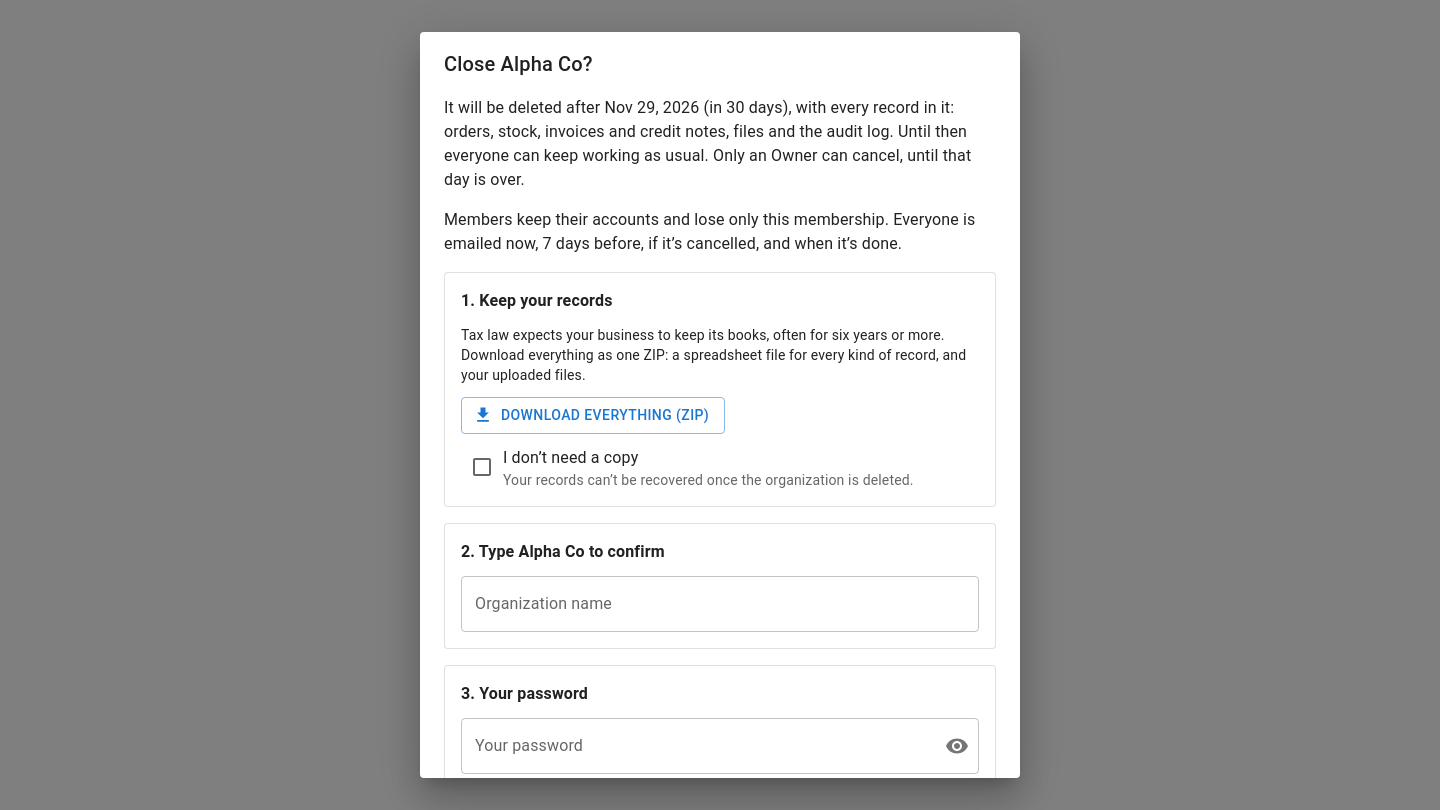
Test: CloseOrganizationDialog › marks a refused password on its field, with the way on (#120)
This screenshot has width=1440, height=810.
Step 1. Click the checkbox labelled "I don’t need a copy" → (571, 457), box [461,446,979,490]
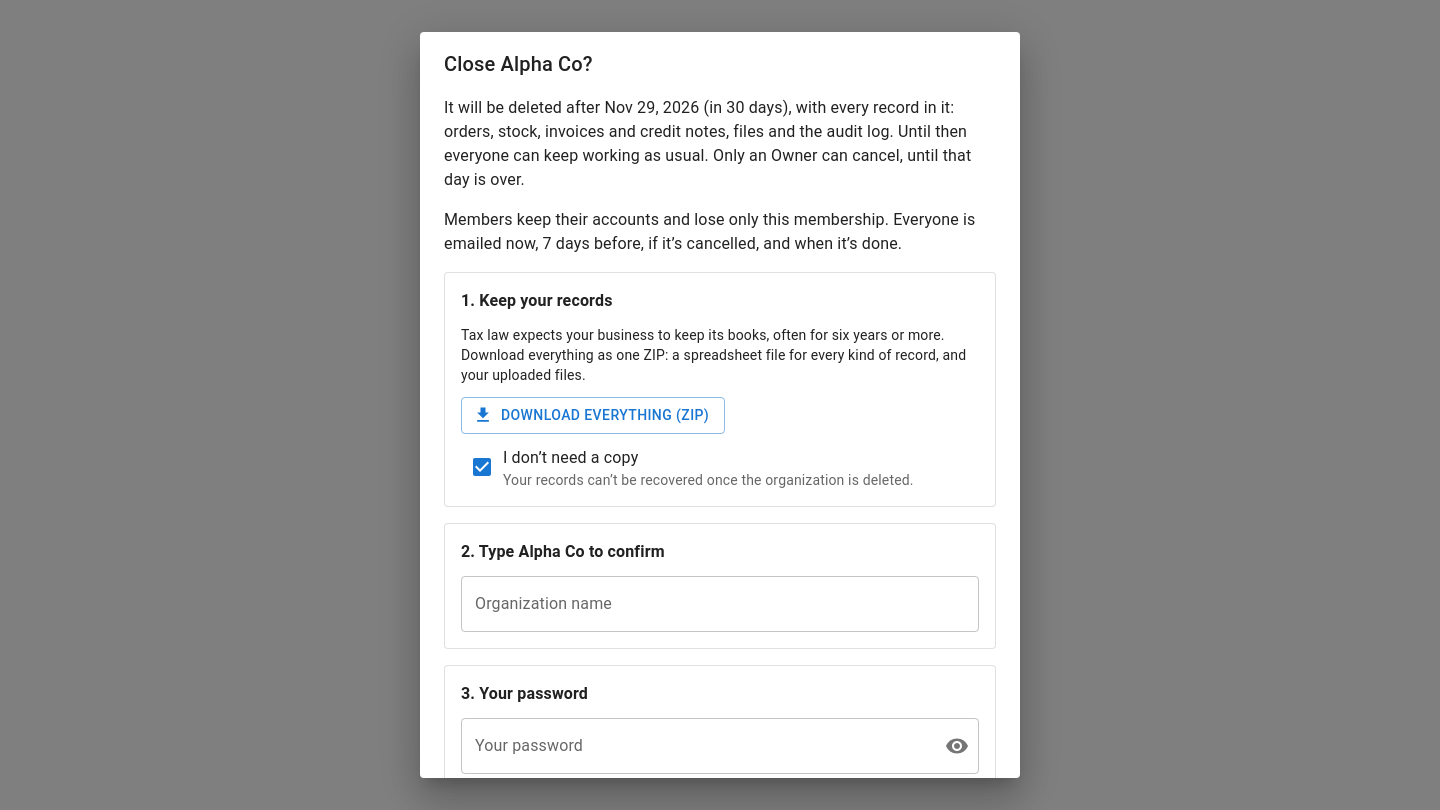
Step 2. Type "Alpha Co" into the field labelled "Organization name" → (720, 604), box [461,576,979,632]
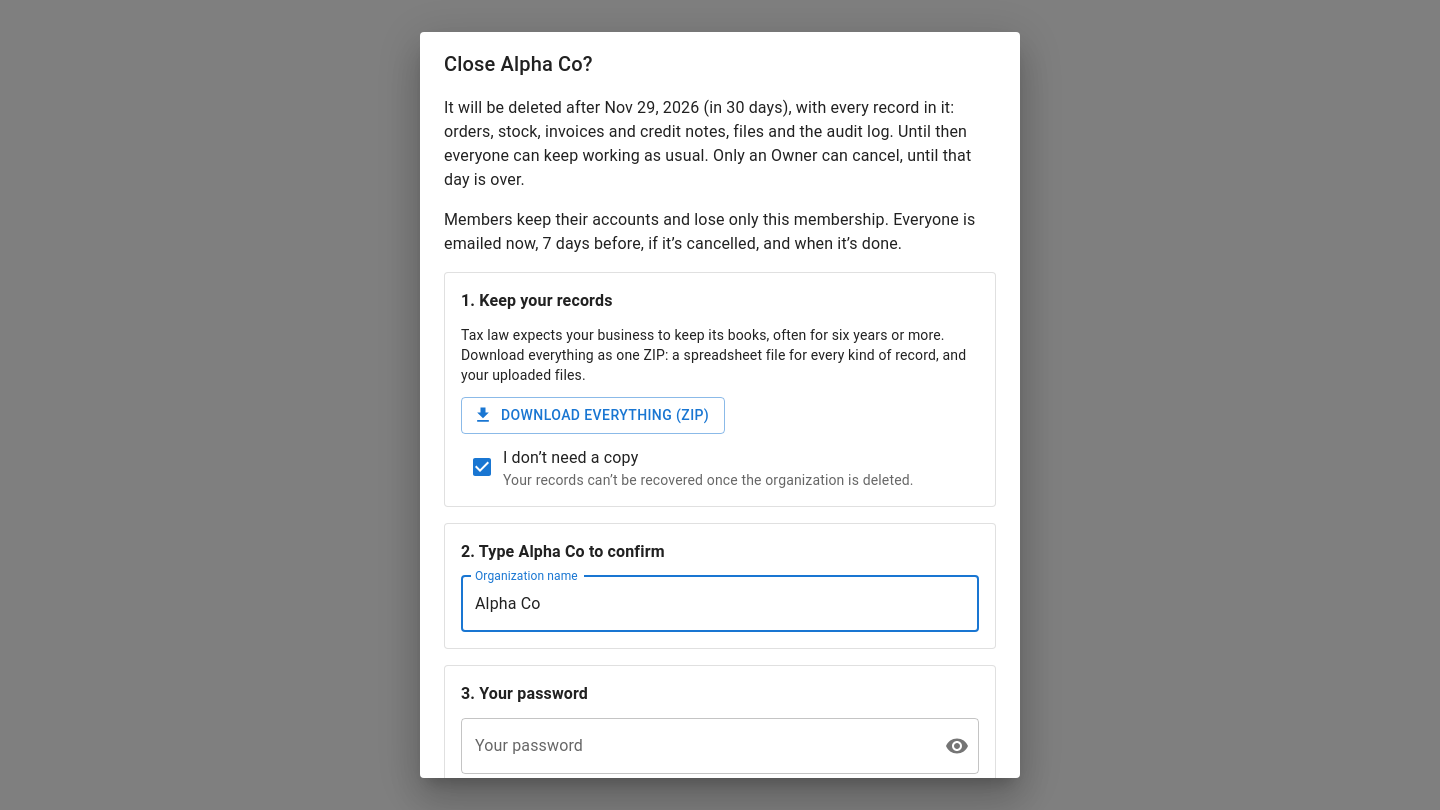
Step 3. Type "not-it" into the password field labelled "Your password" → (695, 746), box [461,718,929,774]
(page scrolled)
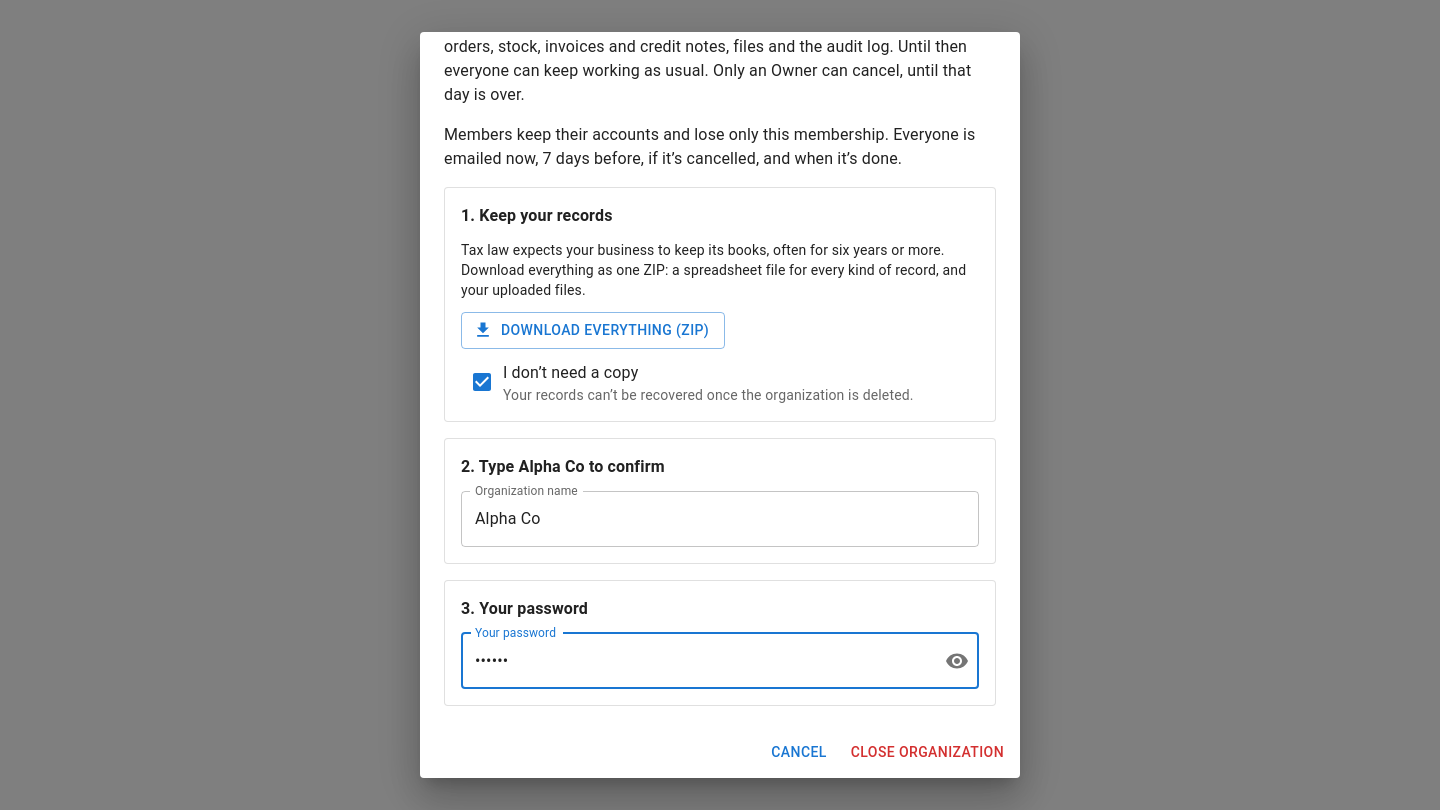
Step 4. Click the button "Close organization" → (927, 752), box [843,734,1012,770]
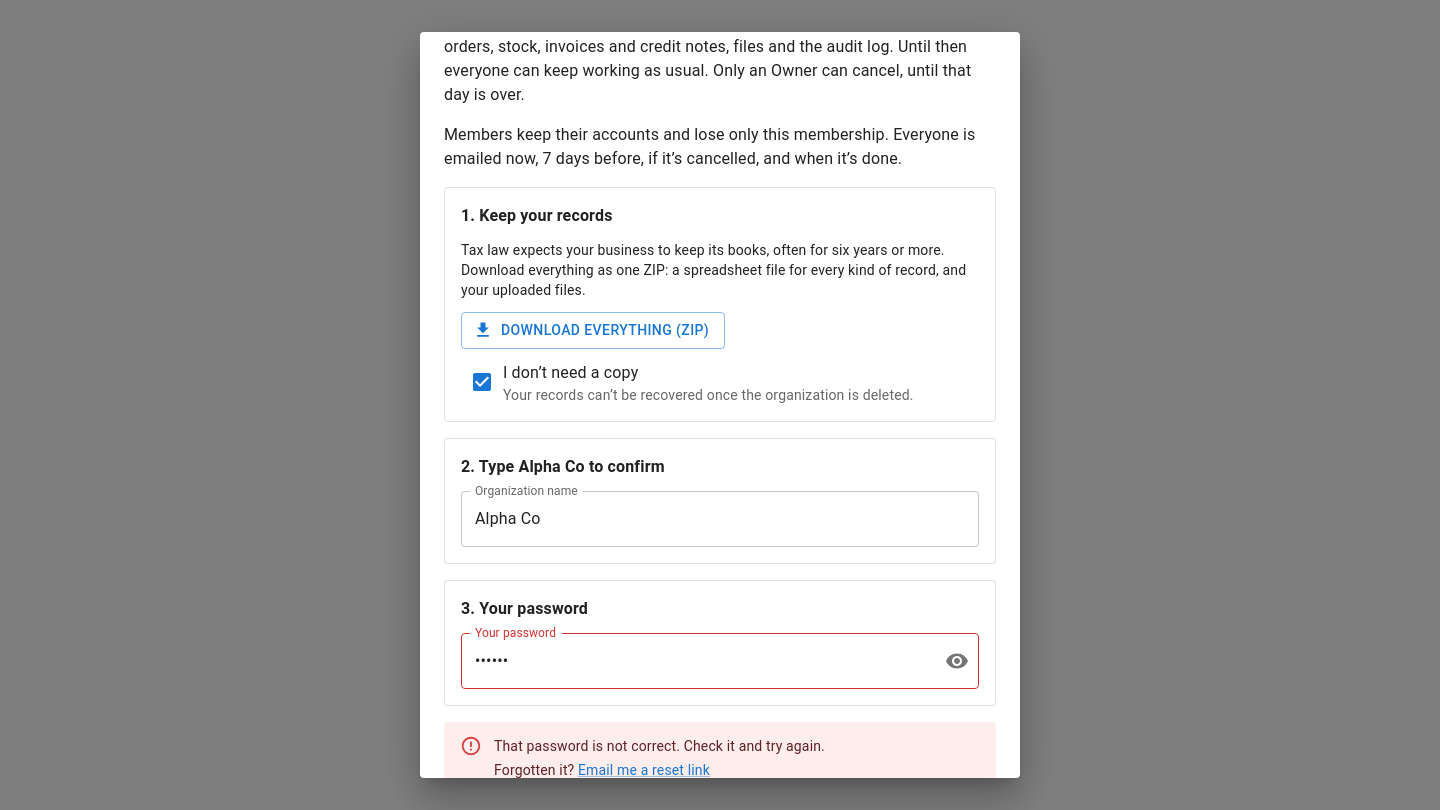
expect the button "Email me a reset link" is shown: met, box [578,760,710,778]
